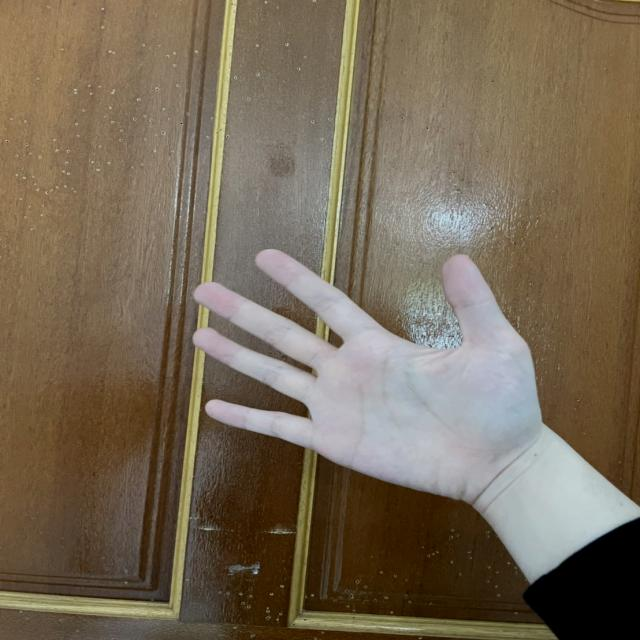no_glove: (186, 227, 559, 524)
